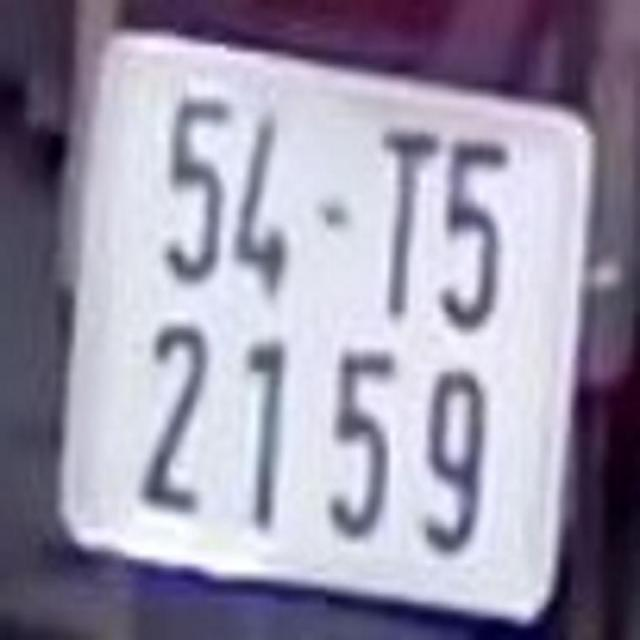1: (242, 344, 280, 529)
2: (138, 324, 209, 516)
4: (237, 111, 300, 296)
5: (441, 134, 518, 332), (330, 342, 392, 540), (165, 92, 228, 282)
9: (428, 368, 486, 557)
T: (378, 127, 430, 316)
